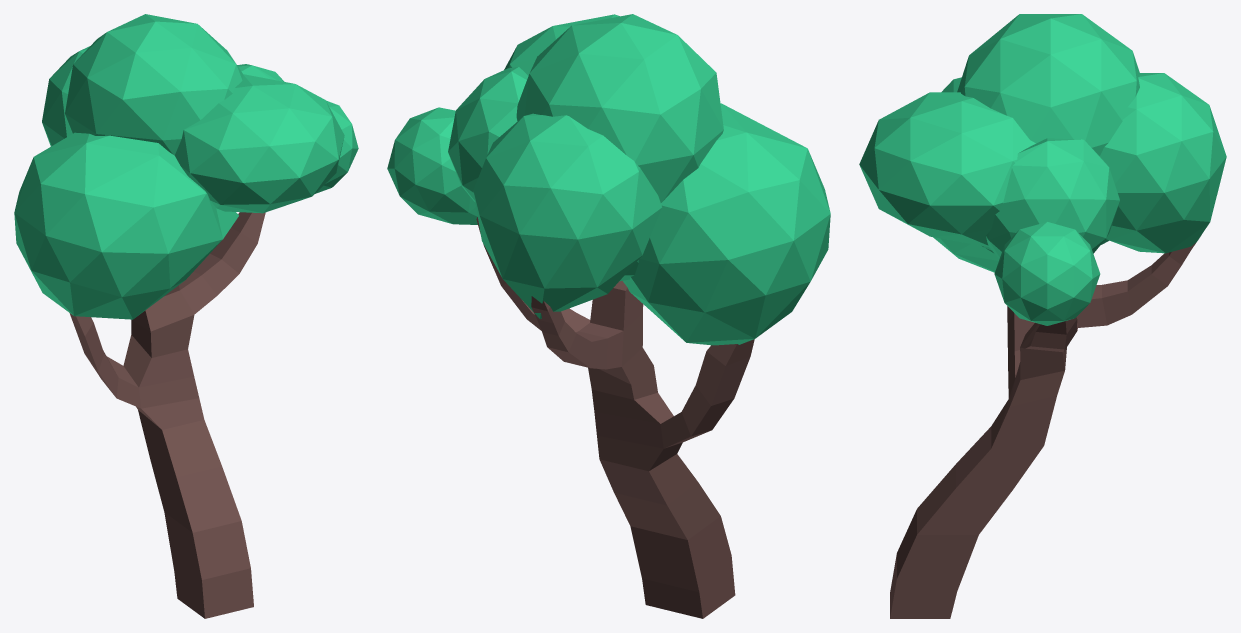
Rendered from ArbolTipo4.fbx.
3 renders of one model, left to right at view 1: azimuth 30°, elevation 25°; view 2: azimuth 150°, elevation 25°; view 3: azimuth 270°, elevation 25°, orthographic. The views are drawn at different scales.
Parts seen in each view (by area): view 1: Icosphere.006, Cube; view 2: Icosphere.006, Cube; view 3: Icosphere.006, Cube.
Boxes of the visible parts, x1,y1,x2,y2 form: Icosphere.006: (14, 14, 358, 319); Cube: (69, 212, 265, 618); Icosphere.006: (387, 14, 830, 345); Cube: (476, 217, 754, 618); Icosphere.006: (859, 14, 1226, 325); Cube: (890, 242, 1196, 618).
Bounding box in the file's own units: 987 × 1498 × 850.
